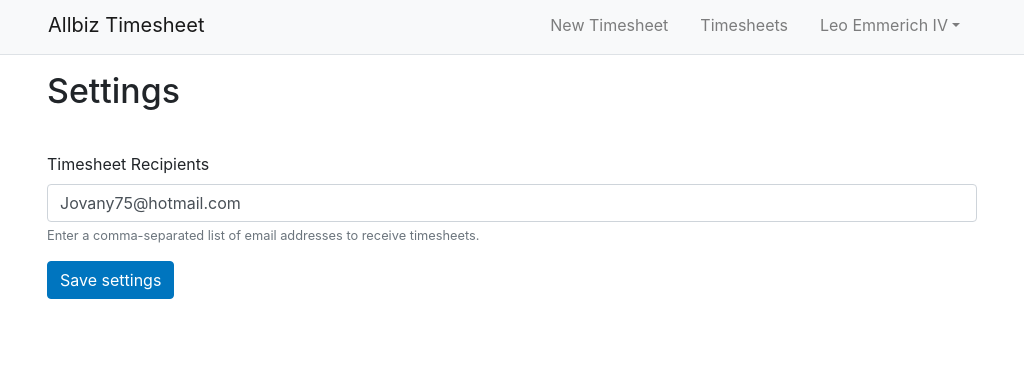
Test: displays error when settings update fails
Click the button "Save settings" at [111, 280], box [47,261,174,299]
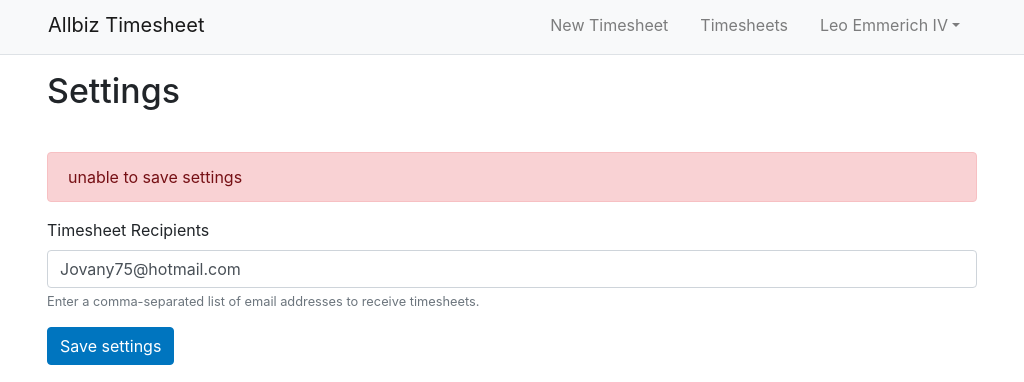
Result: the text "unable to save settings" is shown at [47,152,977,202]
